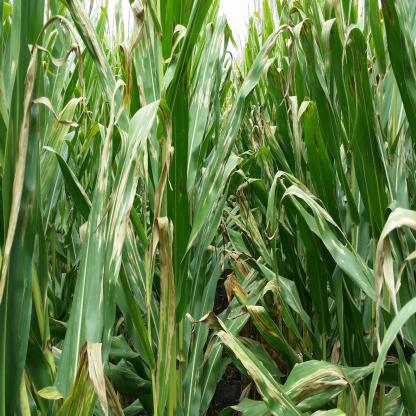corn leaf blight: (182, 21, 297, 271), (98, 97, 177, 416), (63, 72, 128, 403), (6, 1, 54, 416), (182, 306, 306, 416), (269, 176, 378, 300), (180, 7, 230, 261), (340, 18, 395, 245), (293, 18, 350, 198), (131, 1, 167, 198), (148, 213, 182, 416), (374, 202, 415, 360), (297, 94, 342, 235), (283, 347, 365, 407)
